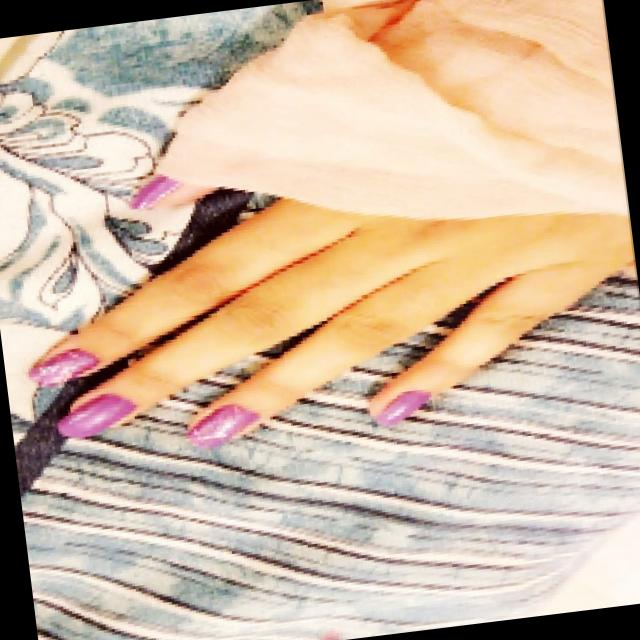Nail: (186, 404, 259, 448), (56, 394, 130, 436), (28, 347, 97, 385), (375, 389, 430, 424), (131, 177, 176, 207)
